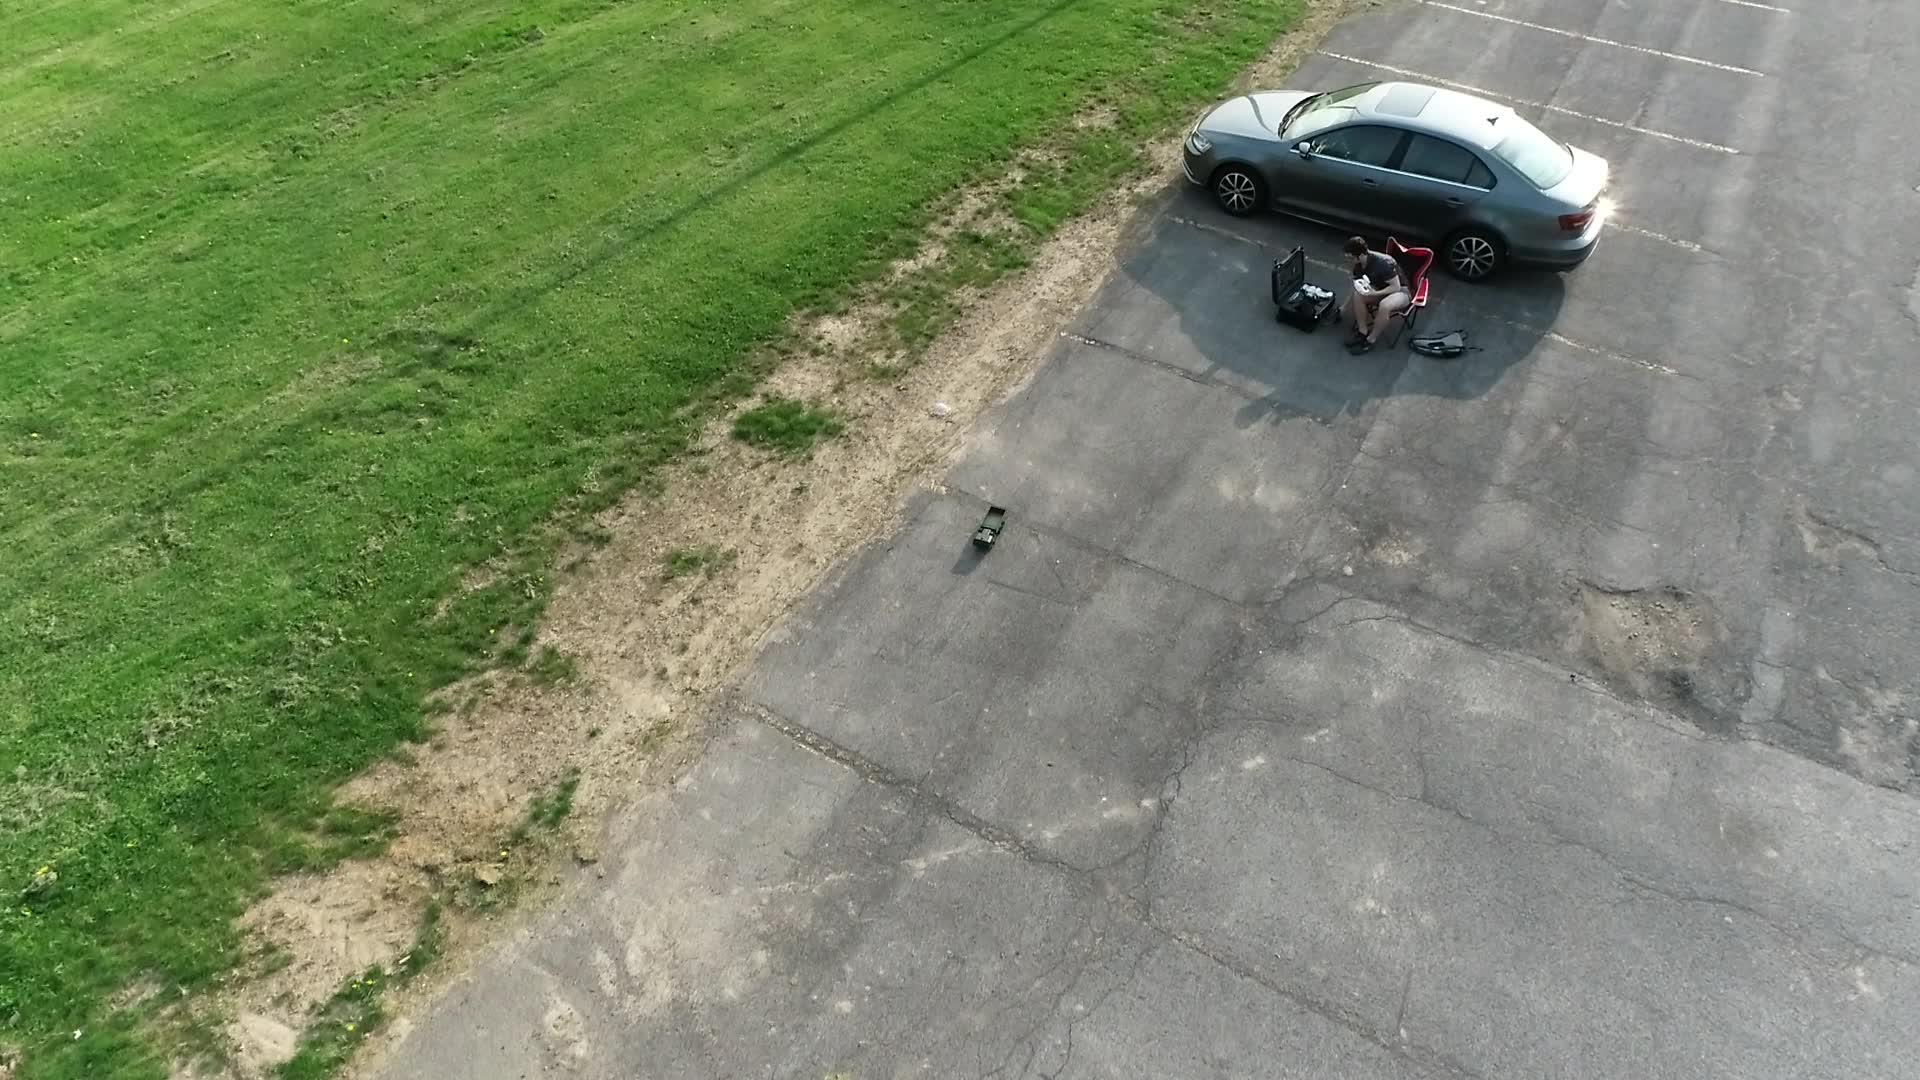transporter9: (971, 502, 1007, 553)
